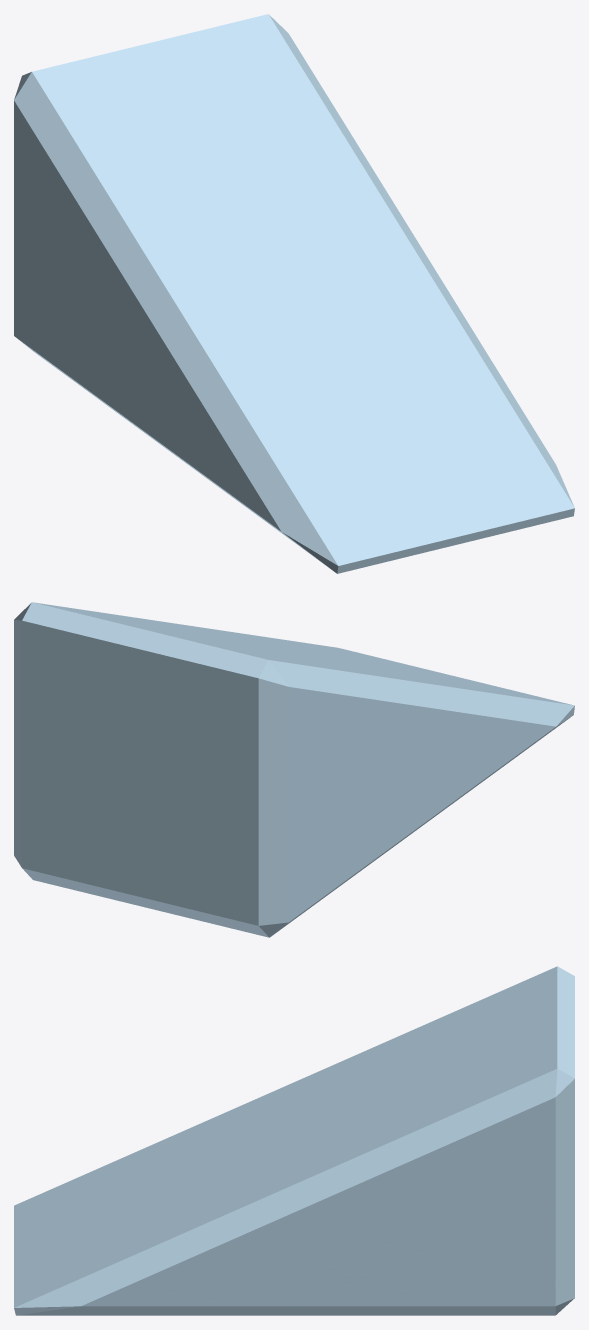
Rendered from R4B_LongWedge.fbx.
The picture shows the model from 3 angles, top to bottom: view 1: azimuth 30°, elevation 25°; view 2: azimuth 150°, elevation 25°; view 3: azimuth 270°, elevation 25°; orthographic projection. The views are drawn at different scales.
Visible parts, largest first — view 1: R4B_LongWedge; view 2: R4B_LongWedge; view 3: R4B_LongWedge.
Part boxes in pixels (left/top/right/bottom): R4B_LongWedge: left=14, top=14, right=574, bottom=573; R4B_LongWedge: left=14, top=602, right=574, bottom=937; R4B_LongWedge: left=14, top=966, right=574, bottom=1315.
Bounding box in the file's own units: 0.52 × 0.5043 × 1.04.
